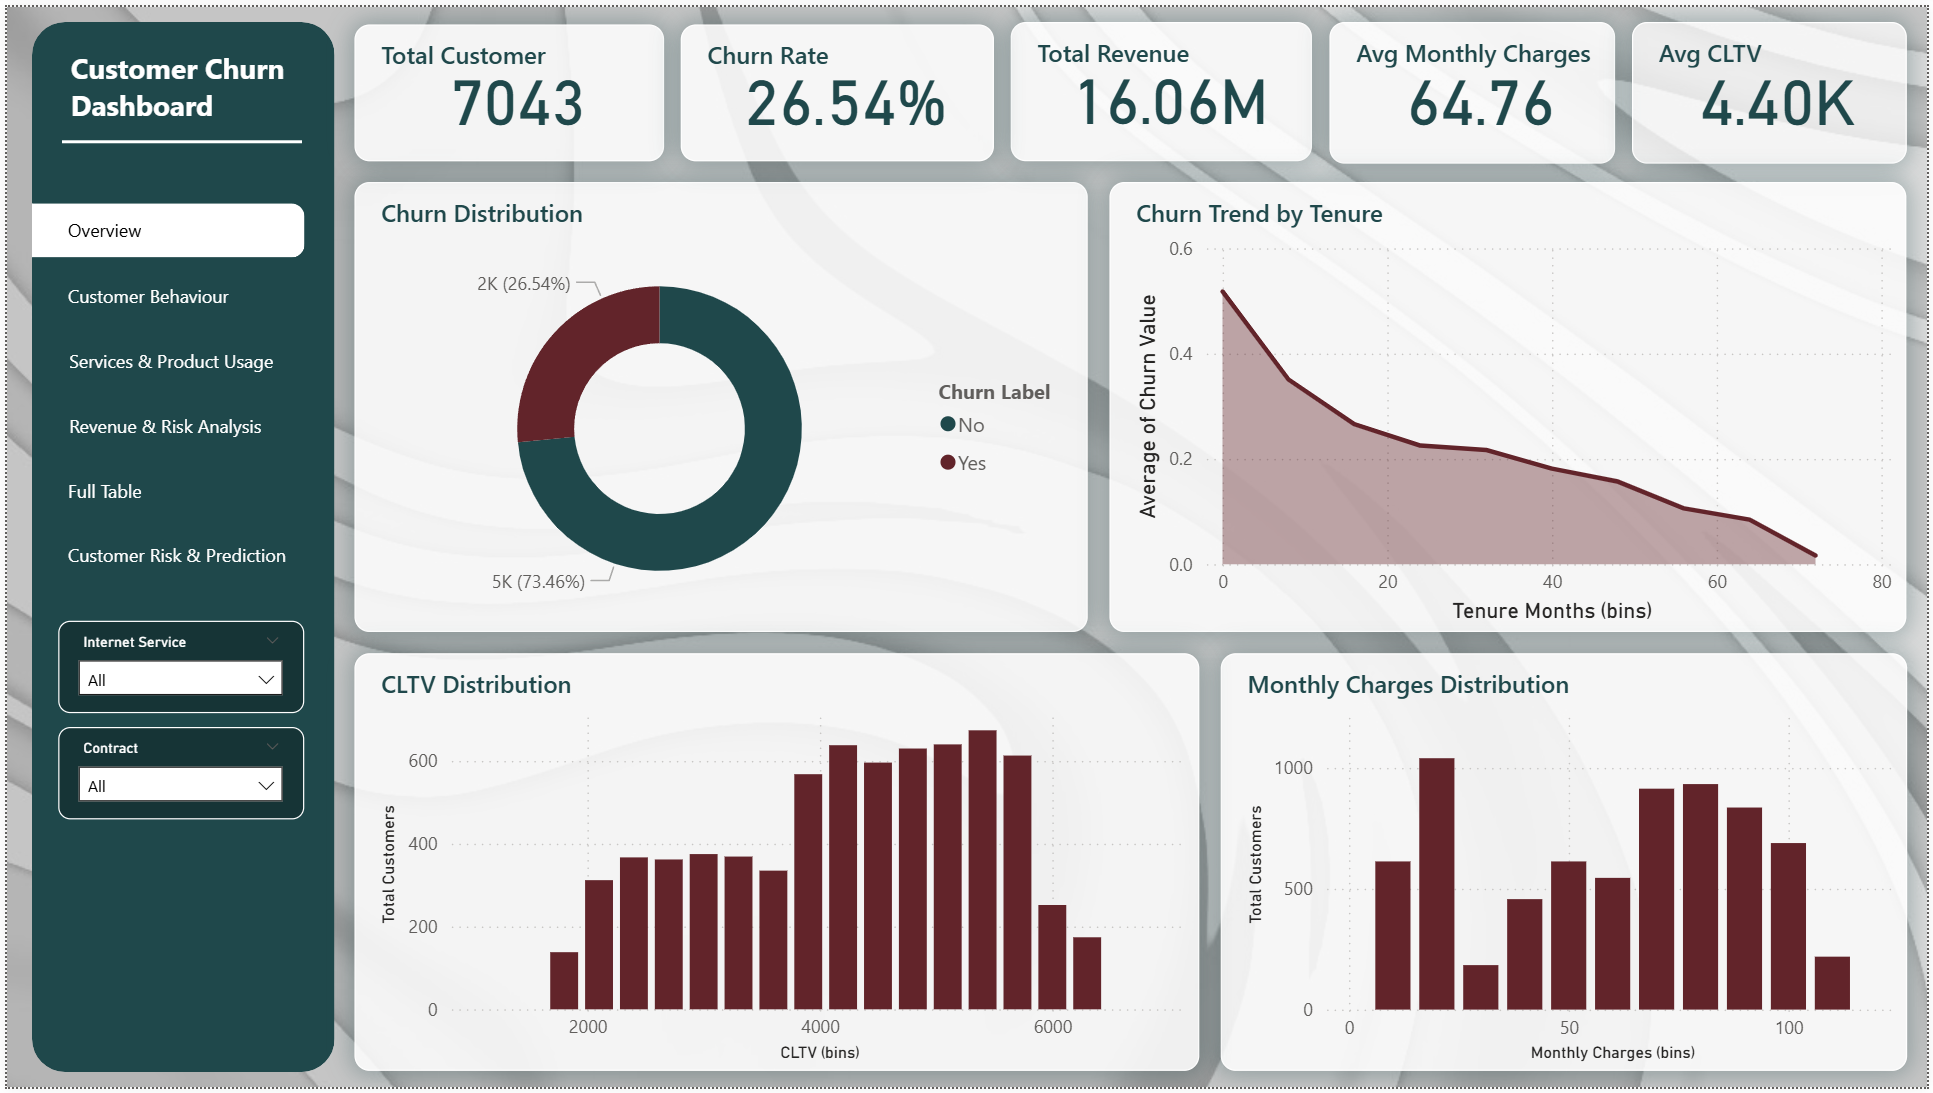

What the dashboard file says about the page in this screenshot:
{"tool":"powerbi","page":{"name":"Overview","canvas":[1280,720],"ordinal":0},"visuals":[{"type":"donutChart","title":"Churn Distribution","fields":{"Category":["Dataset.Churn Label"],"Y":["Dataset.Total Customers"]},"box":[231.9,116.8,488.5,300],"z":0},{"type":"shape","box":[16.8,9.7,201.8,700],"z":1000},{"type":"textbox","box":[37.2,23,161.1,68.1],"z":2000},{"type":"card","title":"Total Customer","fields":{"Values":["Dataset.Total Customers"]},"box":[231.9,11.5,206.2,91.2],"z":3000},{"type":"card","title":"Total Revenue","fields":{"Values":["Dataset.Total Revenue"]},"box":[669,9.7,200.9,92.9],"z":4000},{"type":"card","title":"Avg Monthly Charges","fields":{"Values":["Dataset.Avg Monthly Charges"]},"box":[881.4,9.7,190.3,94.7],"z":5000},{"type":"card","title":"Churn Rate","fields":{"Values":["Dataset.Churn Rate"]},"box":[449.6,11.5,208.8,91.2],"z":6000},{"type":"card","title":"Avg CLTV","fields":{"Values":["Avg(Dataset.CLTV)"]},"box":[1083.2,9.7,183.2,94.7],"z":7000},{"type":"areaChart","title":"Churn Trend by Tenure","fields":{"Category":["Dataset.Tenure Months (bins)"],"Y":["Avg(Dataset.Churn Value)"]},"box":[735.4,116.8,531,300],"z":8000},{"type":"clusteredColumnChart","title":"Monthly Charges Distribution","fields":{"Category":["Dataset.Monthly Charges (bins)"],"Y":["Dataset.Total Customers"]},"box":[808.8,431,457.5,278.8],"z":9000},{"type":"clusteredColumnChart","title":"CLTV Distribution","fields":{"Y":["Dataset.Total Customers"],"Category":["Dataset.CLTV (bins)"]},"box":[236.3,431,559.3,278.8],"z":10000}]}

Visuals, with their boxes in screenshot pixels (x1, y1, x2, y2), scaled from the page's 1280x720 canvas onto the 1933x1093 screenshot:
"Churn Distribution" donutChart: bbox=[350, 177, 1088, 633]
shape: bbox=[25, 15, 330, 1077]
textbox: bbox=[56, 35, 299, 138]
"Total Customer" card: bbox=[350, 17, 662, 156]
"Total Revenue" card: bbox=[1010, 15, 1314, 156]
"Avg Monthly Charges" card: bbox=[1331, 15, 1618, 158]
"Churn Rate" card: bbox=[679, 17, 994, 156]
"Avg CLTV" card: bbox=[1636, 15, 1912, 158]
"Churn Trend by Tenure" areaChart: bbox=[1111, 177, 1912, 633]
"Monthly Charges Distribution" clusteredColumnChart: bbox=[1221, 654, 1912, 1078]
"CLTV Distribution" clusteredColumnChart: bbox=[357, 654, 1201, 1078]
